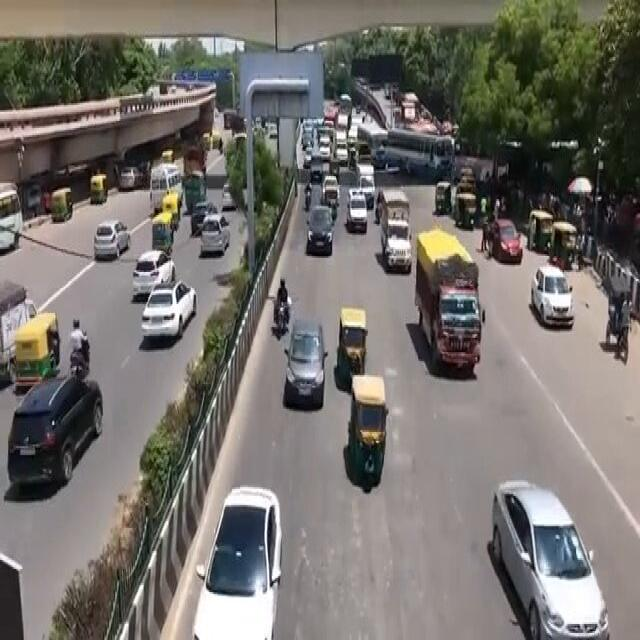three_wheeler: (340, 372, 397, 496)
